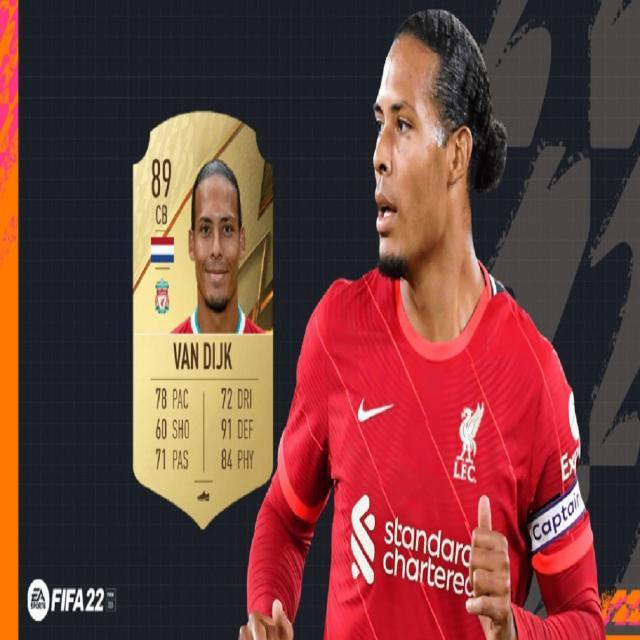Nike: (358, 398, 395, 421)
Standard Chartered: (350, 494, 472, 596)
